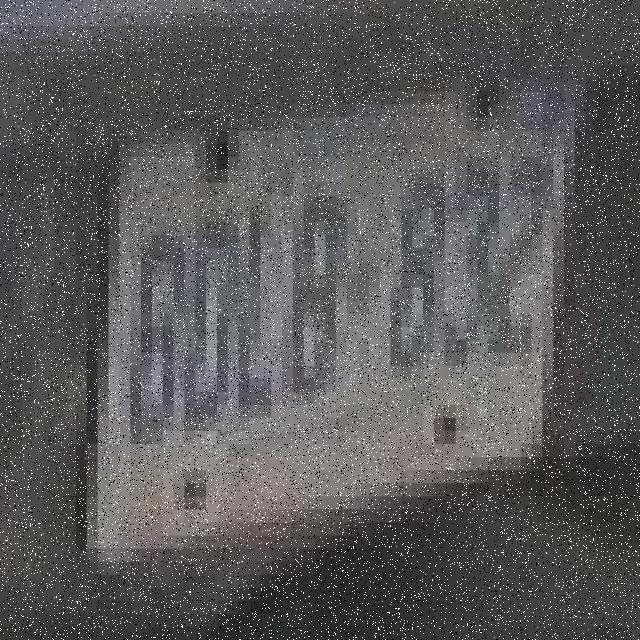licenseplate: (87, 81, 606, 593)
